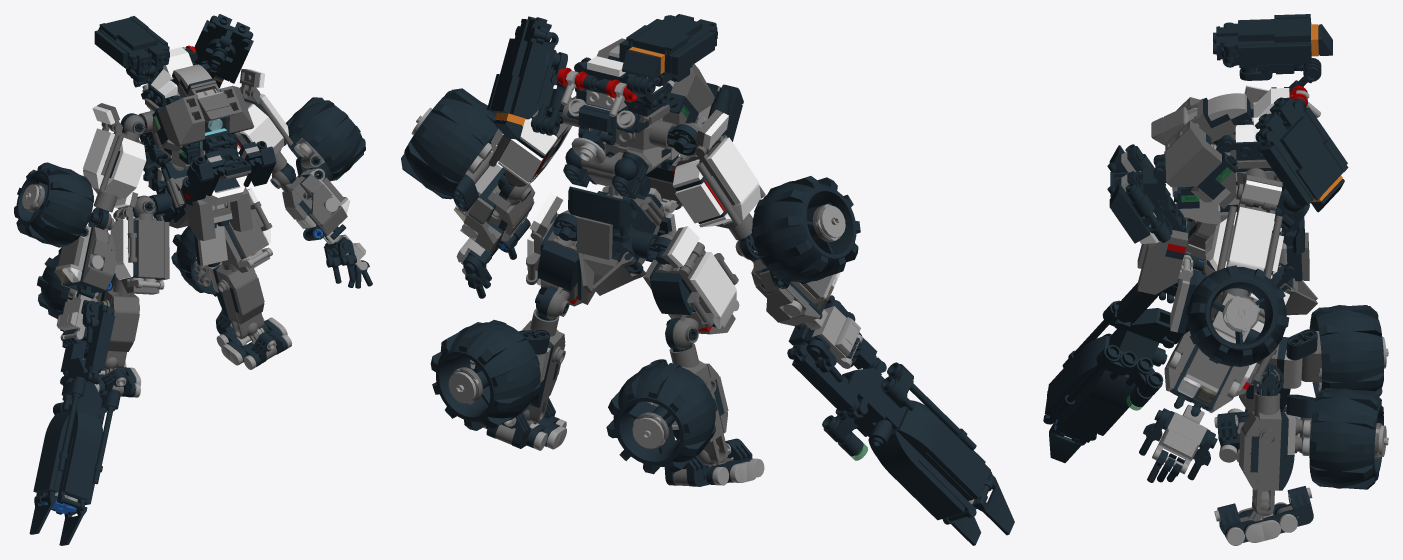
Rendered from kx-7259-lancer-titan.dae.
3 renders of one model, left to right at view 1: azimuth 30°, elevation 25°; view 2: azimuth 150°, elevation 25°; view 3: azimuth 270°, elevation 25°, orthographic. The views are drawn at different scales.
Size of the model in its own units: 636 by 379 by 646.
